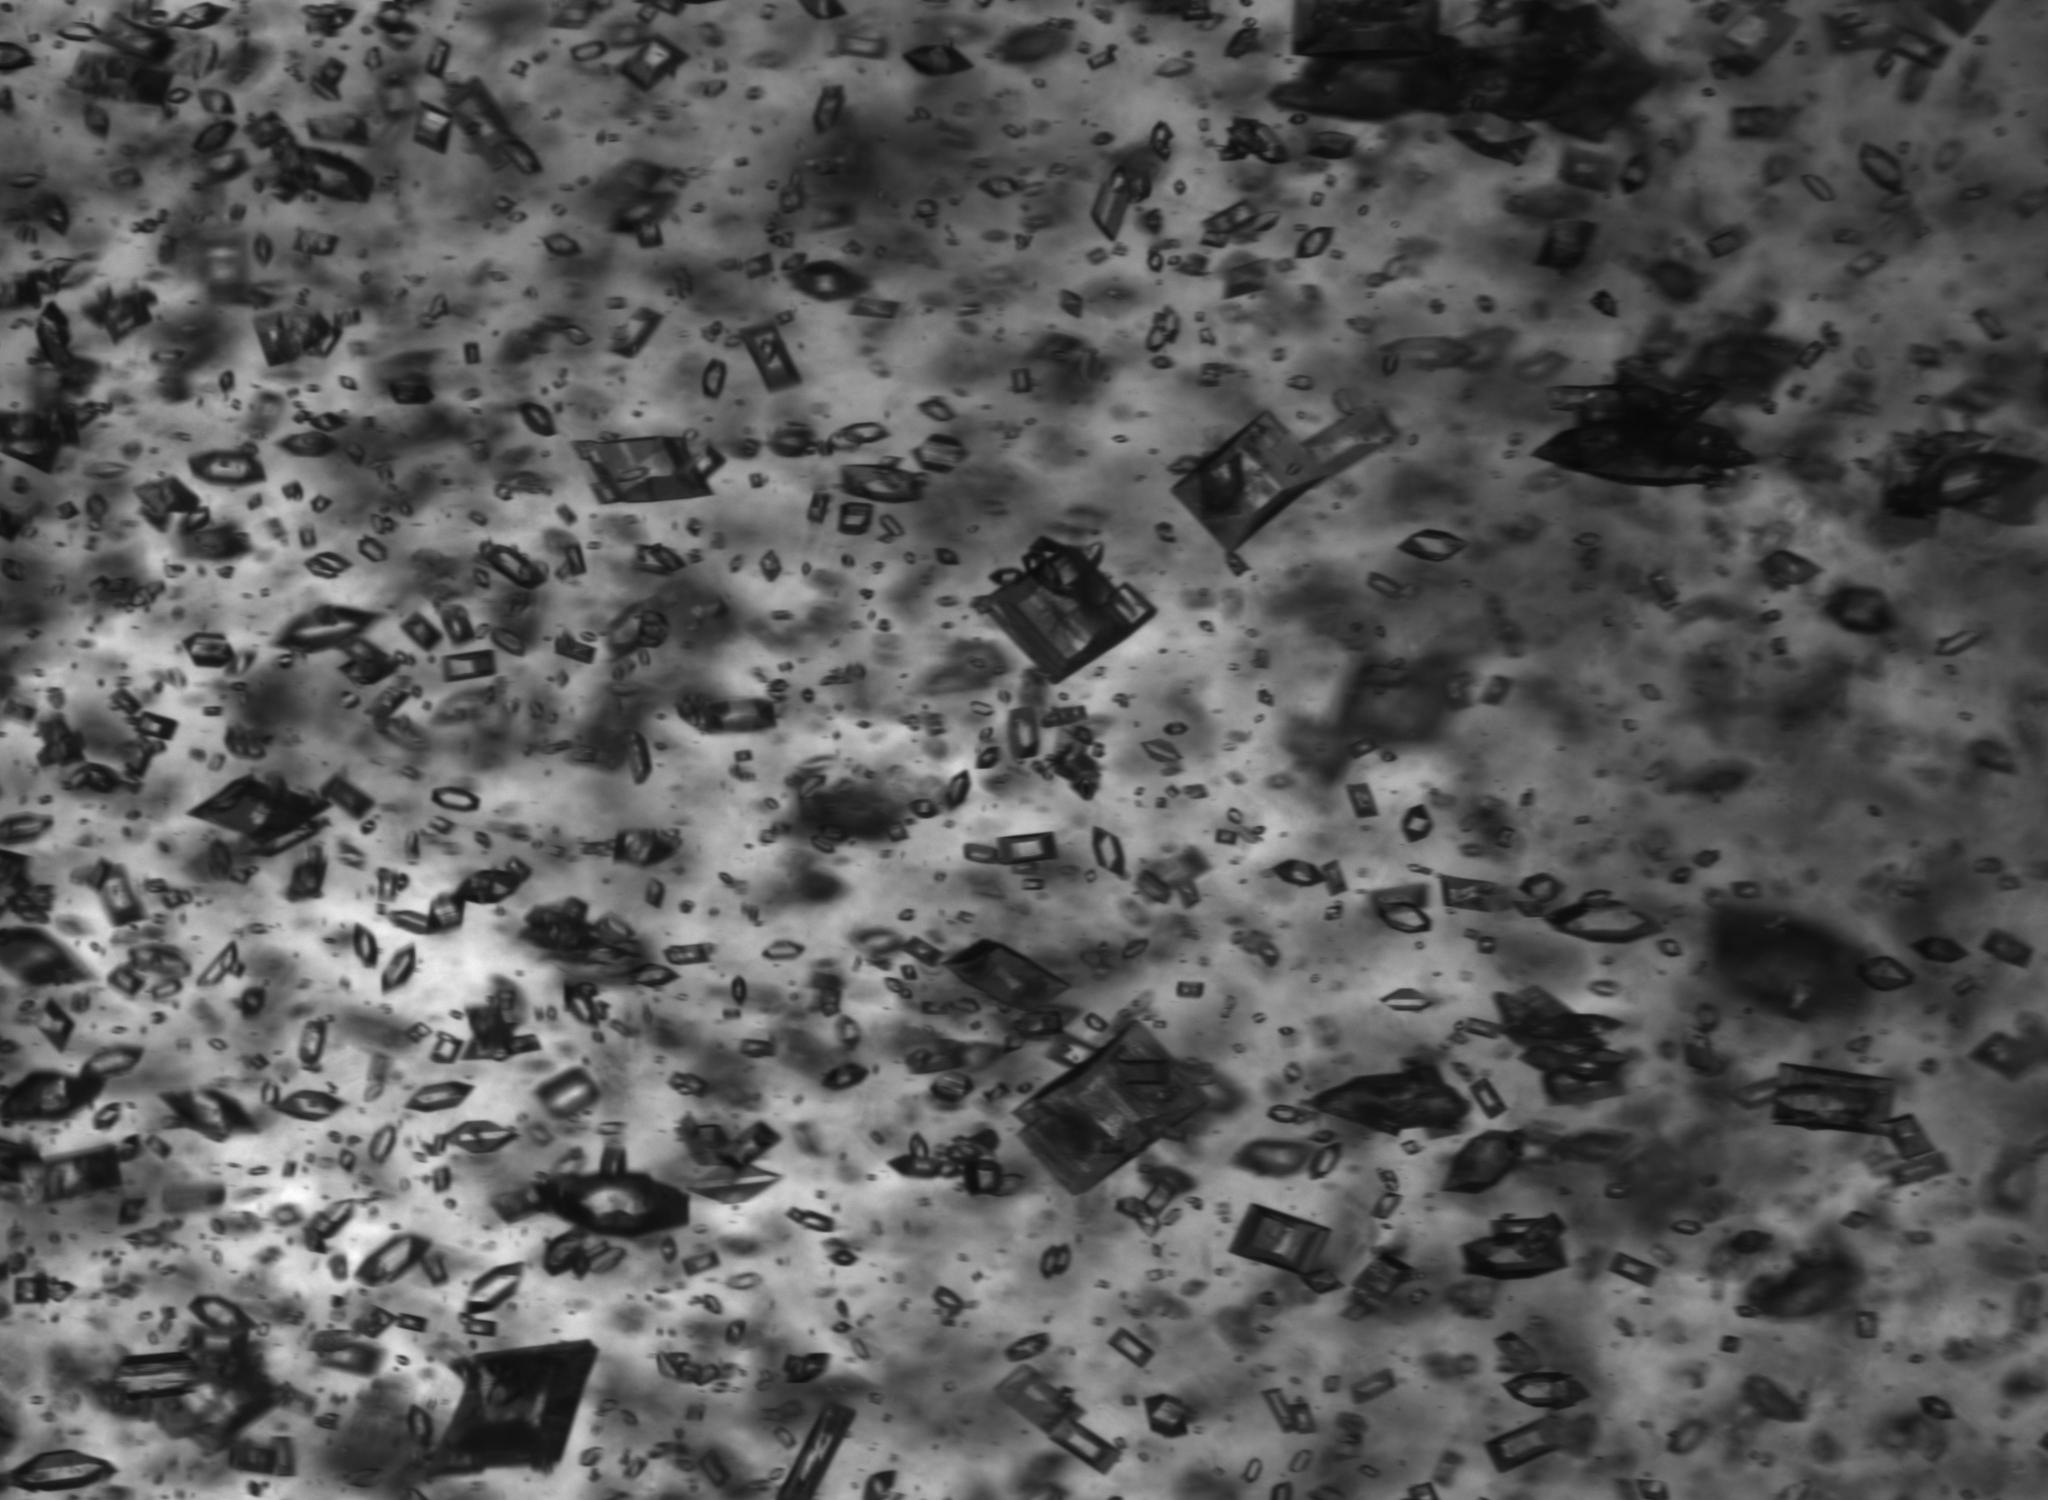crystal: (1016, 1013, 1226, 1193), (1172, 410, 1393, 562), (979, 538, 1156, 682), (418, 1341, 598, 1481), (1534, 375, 1755, 487), (145, 1327, 280, 1459), (1491, 991, 1628, 1102), (995, 1368, 1121, 1473), (1307, 1061, 1471, 1134), (246, 110, 372, 204), (189, 776, 326, 856), (1228, 1204, 1340, 1293), (515, 897, 639, 977), (572, 436, 717, 503), (1770, 1063, 1895, 1137), (437, 76, 529, 175), (552, 1172, 687, 1239), (1286, 0, 1439, 59), (944, 940, 1064, 1008), (889, 1128, 1008, 1196), (774, 1403, 855, 1500), (1461, 1214, 1568, 1280), (0, 1142, 121, 1201), (68, 46, 176, 108), (1712, 5, 1803, 76), (0, 1067, 107, 1123), (1546, 892, 1662, 943), (1442, 102, 1534, 164), (0, 926, 89, 989), (92, 1350, 199, 1400), (161, 1090, 258, 1142), (1444, 1133, 1526, 1193), (277, 604, 377, 654), (0, 1449, 114, 1492), (92, 10, 178, 67), (461, 1004, 542, 1063), (1485, 1419, 1566, 1473), (738, 323, 800, 391), (684, 1161, 781, 1204), (1972, 1026, 2048, 1080), (1348, 1249, 1417, 1308), (355, 1234, 431, 1287), (840, 460, 927, 504), (87, 861, 146, 926), (1116, 1177, 1175, 1239), (474, 541, 547, 590), (714, 1120, 781, 1172), (622, 35, 682, 92), (1218, 115, 1288, 164), (1504, 1370, 1585, 1411), (1884, 22, 1951, 70), (464, 1261, 523, 1315), (536, 1067, 599, 1117), (188, 447, 266, 487), (607, 305, 665, 359), (1536, 218, 1598, 267), (35, 301, 78, 371), (1876, 1110, 1935, 1161), (793, 261, 867, 301), (434, 1120, 517, 1155), (21, 996, 75, 1048), (302, 1199, 355, 1253), (1437, 875, 1514, 911), (1743, 1374, 1802, 1420), (1755, 549, 1825, 587), (1261, 1389, 1318, 1435), (703, 698, 778, 733), (612, 827, 681, 865), (316, 775, 374, 819), (134, 474, 197, 514), (1886, 1150, 1951, 1188), (903, 43, 973, 78), (188, 1295, 254, 1331), (1204, 196, 1258, 240), (1978, 926, 2032, 970), (1511, 873, 1566, 916), (458, 869, 523, 905), (1239, 1141, 1304, 1177), (1854, 954, 1916, 993), (1143, 1393, 1196, 1438), (1725, 1074, 1789, 1110), (1091, 181, 1129, 242), (1398, 530, 1468, 562), (657, 1350, 720, 1385), (196, 940, 245, 985), (1223, 256, 1272, 301), (275, 1090, 343, 1121), (81, 1045, 143, 1080), (412, 102, 453, 154), (1860, 142, 1902, 194), (913, 433, 967, 472), (405, 1080, 472, 1112), (994, 832, 1057, 865), (180, 631, 235, 670), (1546, 385, 1625, 410), (545, 1228, 584, 1279), (1374, 900, 1431, 934), (14, 1271, 72, 1304), (398, 612, 444, 654), (1107, 1328, 1154, 1368), (380, 943, 418, 993), (1906, 935, 1972, 964), (631, 544, 687, 576), (167, 3, 232, 30), (444, 649, 496, 682), (229, 1440, 277, 1476), (256, 312, 288, 366), (437, 603, 477, 646), (1608, 1252, 1658, 1285), (1091, 827, 1126, 875), (817, 1059, 870, 1091), (814, 84, 846, 137), (425, 894, 466, 934), (1666, 1417, 1709, 1455), (626, 729, 654, 789), (307, 118, 367, 145), (1352, 1368, 1396, 1405), (1841, 245, 1887, 280), (1145, 305, 1178, 353), (363, 686, 410, 719), (1010, 706, 1040, 759), (1469, 1075, 1506, 1118), (929, 1072, 978, 1104), (194, 119, 239, 154), (348, 923, 382, 969), (1970, 304, 2010, 342), (835, 501, 878, 536), (563, 983, 598, 1026), (304, 550, 353, 581), (1270, 859, 1325, 886), (1377, 988, 1434, 1013), (1305, 130, 1356, 159), (1935, 628, 1988, 655), (781, 1354, 830, 1382), (1620, 150, 1650, 196), (518, 402, 558, 437), (1399, 802, 1433, 843), (1007, 1331, 1048, 1365), (784, 1206, 835, 1233), (765, 431, 813, 460), (296, 1020, 326, 1064), (291, 229, 340, 256), (630, 961, 679, 988), (835, 35, 886, 60), (1307, 1142, 1342, 1179), (1135, 869, 1170, 905), (107, 964, 146, 996), (902, 935, 941, 967), (281, 433, 334, 457), (407, 1405, 434, 1451), (1345, 783, 1379, 819), (1038, 1242, 1072, 1279), (1294, 226, 1332, 258), (197, 87, 237, 118), (1706, 229, 1746, 259), (137, 711, 178, 740), (429, 787, 482, 810), (429, 1031, 466, 1063), (940, 770, 970, 808), (681, 1249, 720, 1277), (1366, 571, 1406, 600), (841, 422, 892, 444), (555, 638, 596, 665), (315, 52, 347, 87), (1224, 27, 1259, 59), (86, 762, 121, 794), (978, 175, 1024, 199), (539, 231, 582, 256), (1140, 738, 1183, 764), (599, 1144, 628, 1182), (1321, 857, 1348, 897), (425, 37, 448, 81), (1150, 119, 1173, 164), (1794, 339, 1825, 372), (1646, 568, 1678, 601), (666, 1072, 708, 1098), (54, 21, 103, 41), (1022, 1012, 1062, 1037), (863, 1470, 897, 1500), (491, 627, 525, 657), (1802, 175, 1837, 204), (367, 1126, 394, 1163), (852, 299, 900, 320), (390, 385, 437, 406), (110, 687, 142, 717), (663, 943, 709, 964), (1919, 1397, 1956, 1422), (1587, 288, 1617, 318), (569, 40, 607, 64), (1371, 1191, 1402, 1220), (1466, 1016, 1501, 1042), (703, 359, 725, 399), (308, 410, 348, 433), (743, 251, 773, 280), (932, 1284, 964, 1311), (1154, 57, 1196, 78), (1043, 706, 1084, 727), (563, 544, 588, 577), (1345, 735, 1379, 760), (758, 549, 782, 584), (588, 1247, 623, 1271), (919, 398, 956, 420), (1837, 1209, 1873, 1231), (1852, 1311, 1879, 1339), (1086, 48, 1118, 72), (806, 490, 828, 523), (965, 843, 999, 865), (358, 538, 386, 563), (378, 869, 399, 903), (1059, 290, 1083, 320), (1910, 345, 1941, 367), (763, 938, 800, 958), (908, 799, 941, 819), (1250, 212, 1283, 232), (638, 223, 663, 250), (118, 1198, 145, 1223), (396, 1314, 428, 1335), (146, 1134, 172, 1160), (95, 1102, 119, 1129), (827, 1247, 860, 1266), (739, 1039, 774, 1056), (560, 326, 592, 345), (644, 876, 663, 908), (1732, 880, 1763, 899), (253, 231, 272, 262), (1670, 1218, 1703, 1236), (1269, 1104, 1299, 1123), (976, 746, 999, 771), (773, 1425, 795, 1451), (882, 821, 908, 843), (464, 1319, 496, 1336), (1013, 367, 1032, 396), (1286, 1451, 1312, 1471), (725, 1319, 744, 1346), (1181, 6, 1213, 22), (428, 814, 452, 835), (1154, 522, 1178, 542), (1180, 784, 1210, 800), (434, 1166, 452, 1193), (935, 547, 959, 566), (1178, 980, 1204, 997), (592, 1121, 626, 1134), (1121, 940, 1146, 958), (731, 975, 746, 1005), (881, 515, 902, 536), (1719, 1335, 1741, 1354), (1245, 1457, 1263, 1481), (339, 1148, 356, 1172), (1657, 940, 1681, 958), (1162, 721, 1188, 736), (491, 196, 514, 213), (248, 1053, 270, 1071), (466, 340, 482, 364), (1477, 935, 1496, 954), (299, 527, 316, 547), (312, 495, 332, 512), (1086, 1013, 1107, 1031), (970, 700, 992, 716), (469, 509, 488, 527), (1323, 905, 1342, 923), (1197, 326, 1215, 345), (1216, 829, 1237, 845), (916, 200, 937, 216), (1146, 250, 1162, 270), (922, 1002, 948, 1015), (1291, 375, 1313, 390), (897, 907, 916, 923), (1021, 878, 1045, 891), (281, 482, 301, 498), (704, 1295, 720, 1314), (340, 374, 358, 390), (900, 966, 917, 981), (1228, 806, 1243, 824), (776, 310, 795, 324), (1312, 191, 1326, 207), (1288, 113, 1307, 124), (1166, 784, 1180, 799), (832, 1322, 849, 1333), (204, 706, 223, 716), (735, 751, 751, 762), (1250, 826, 1264, 835), (1277, 1028, 1293, 1036)
